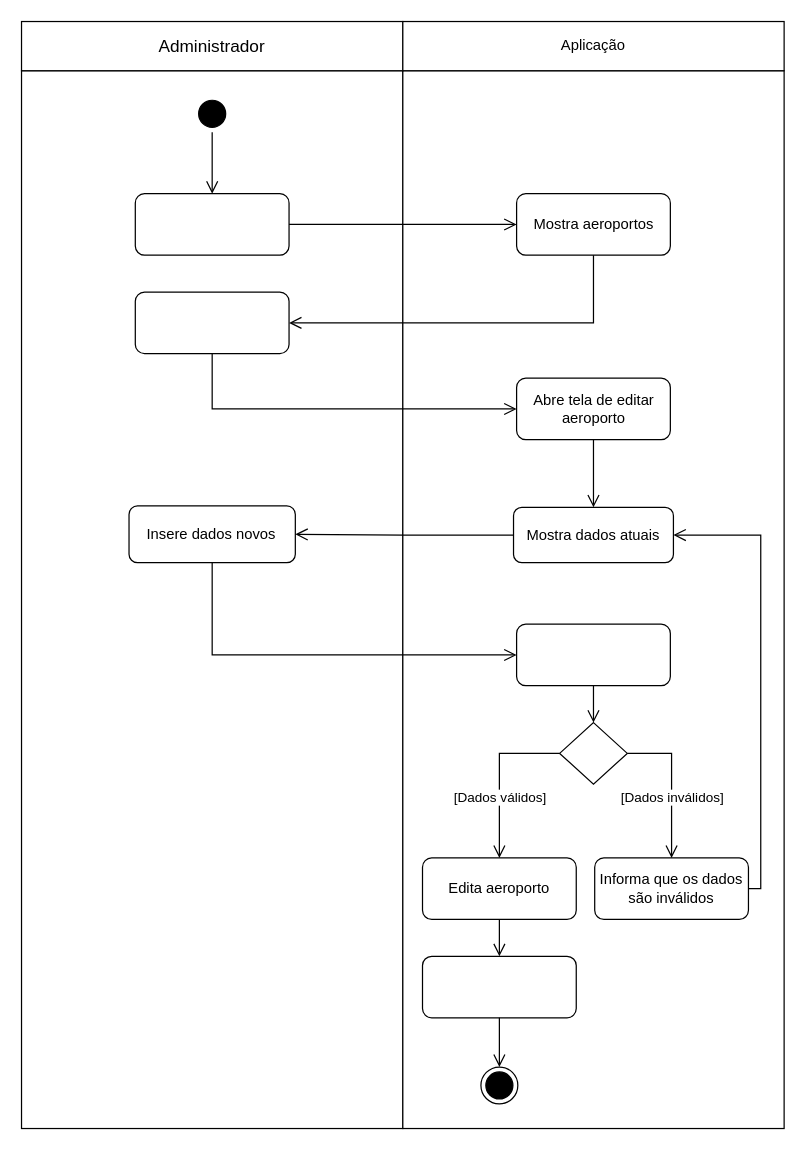
This 806x1150 diagram has some shape labels left out. The shapes that lost their labels are listed below. From the top down, each one's centre as x and y in pixels, then its label:
pixel 211 223: Entra na tela de ver aeroportos
pixel 211 322: Seleciona editar aeroporto
pixel 592 654: Valida dados
pixel 498 986: Informa que o aeroporto foi editado com sucesso
